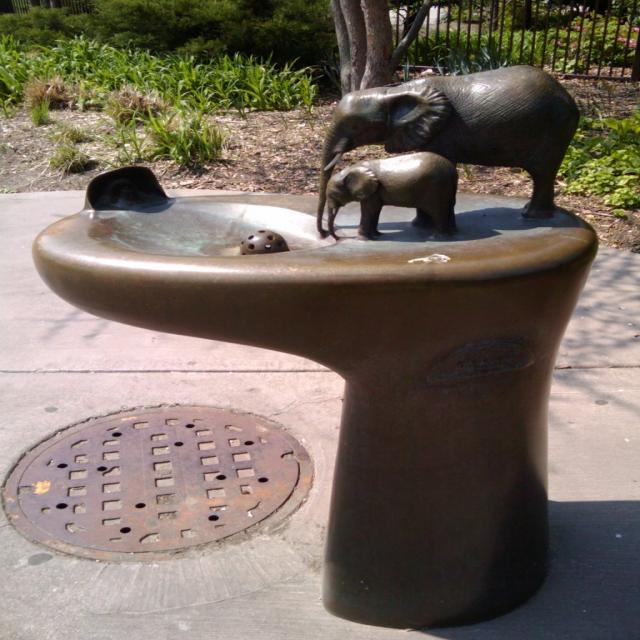elephant: (338, 57, 584, 207), (326, 150, 460, 238)
